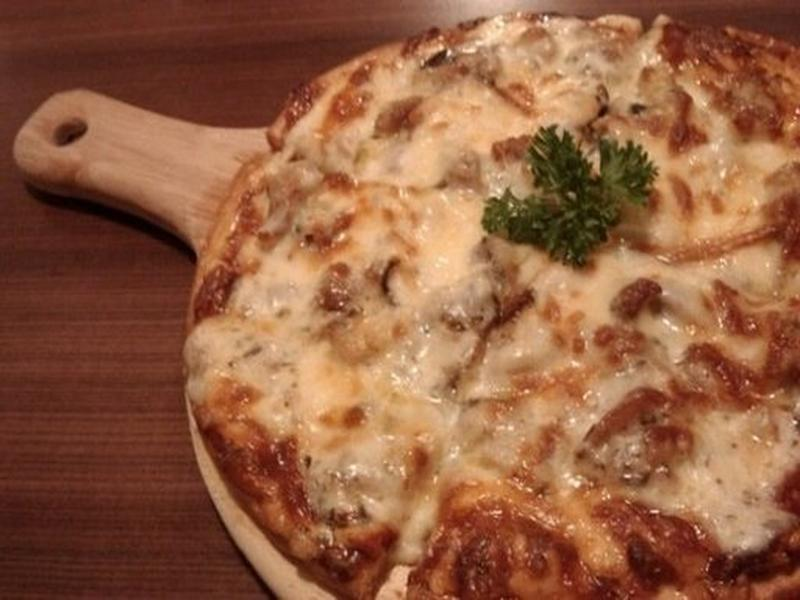pizza: (171, 8, 800, 594)
